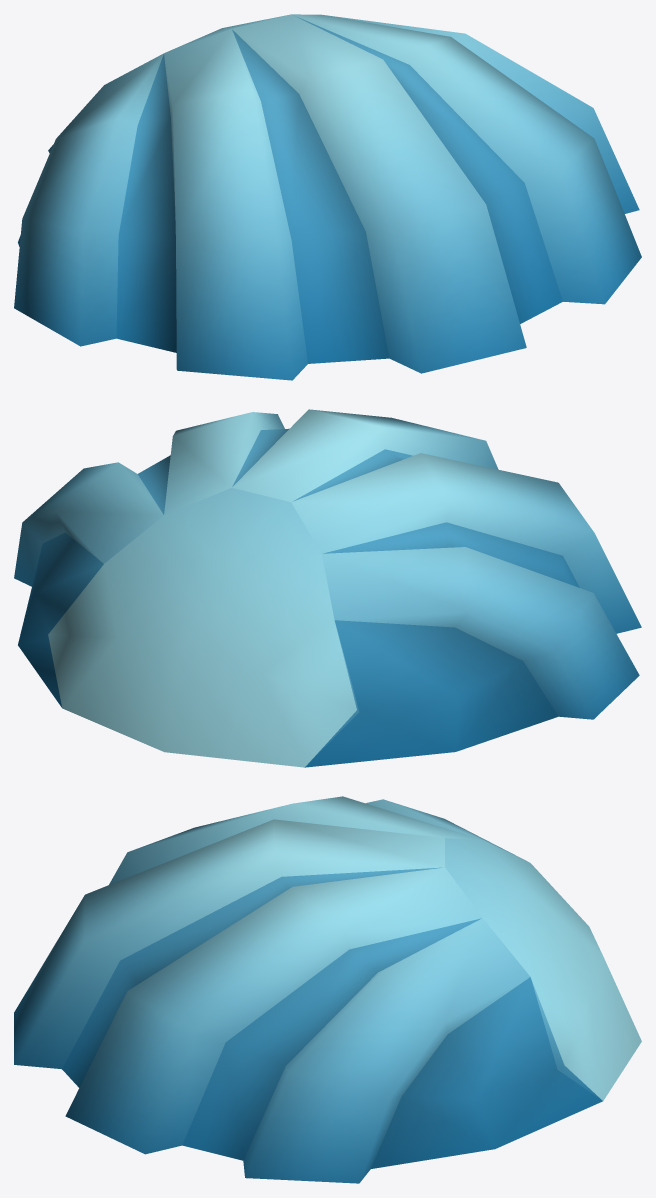
File: SeaShell.fbx
3 views of the same model, one above another, from view 1: azimuth 30°, elevation 25°; view 2: azimuth 150°, elevation 25°; view 3: azimuth 270°, elevation 25° (orthographic).
Parts seen in each view (by area): view 1: SeaShell; view 2: SeaShell; view 3: SeaShell.
Part boxes in pixels (x1,y1,x2,y2): SeaShell: (14, 14, 641, 380); SeaShell: (14, 409, 641, 767); SeaShell: (14, 796, 641, 1183).
Size of the model in its own units: 0.4239 by 0.1404 by 0.3923.
